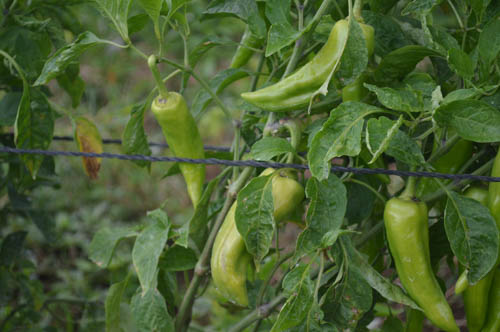ChiliPepper: (245, 22, 373, 120), (210, 172, 302, 306), (382, 200, 455, 325), (154, 96, 204, 208), (458, 183, 485, 328)
